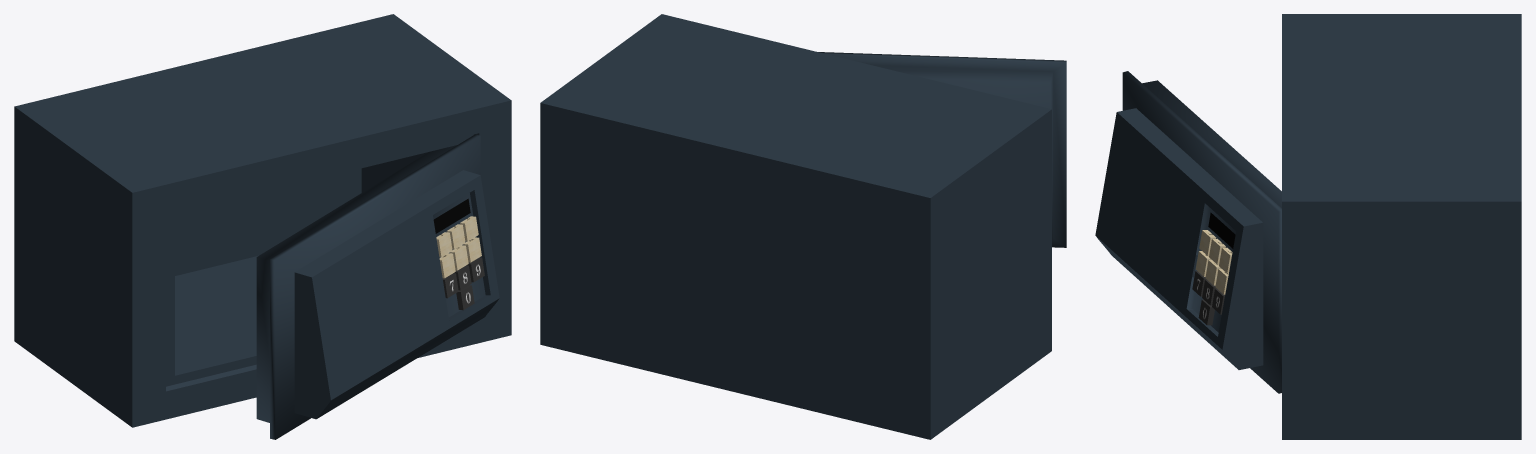
File: Safe.fbx
The picture shows the model from 3 angles, left to right: view 1: azimuth 30°, elevation 25°; view 2: azimuth 150°, elevation 25°; view 3: azimuth 270°, elevation 25°; orthographic projection. The views are drawn at different scales.
Visible parts, largest first — view 1: Safe, Safe Door, Display; view 2: Safe, Safe Door; view 3: Safe, Safe Door, Display.
Part boxes in pixels (box(x1,y1,x2,y2)): Safe: box(14, 14, 511, 427); Safe Door: box(256, 134, 499, 439); Display: box(433, 198, 470, 233); Safe: box(540, 14, 1051, 439); Safe Door: box(818, 52, 1066, 247); Safe: box(1282, 14, 1521, 439); Safe Door: box(1095, 71, 1281, 393); Display: box(1208, 212, 1235, 248).
Bounding box in the file's own units: 458 × 271 × 439.
